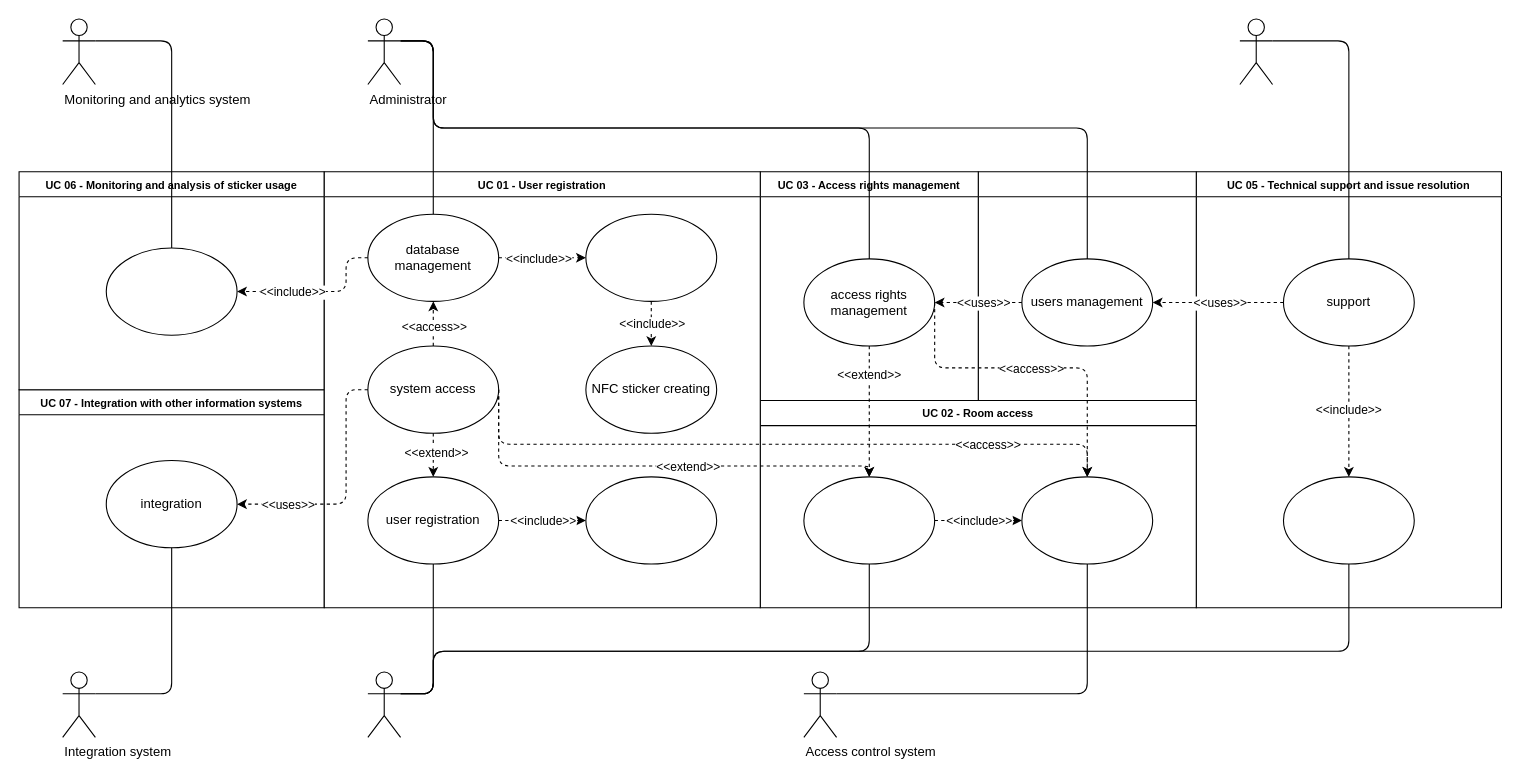
This 1521x779 diagram has some shape labels left out. The box of each missing label's shape, as (x1, y1, x2, y2) in pixels:
account creating: (585, 213, 717, 301)
NFC sticker verification: (1021, 476, 1153, 564)
providing personal information: (585, 476, 717, 564)
room access: (803, 476, 935, 564)
sticker usage: (105, 247, 237, 335)
Technical support: (1239, 18, 1273, 84)
UC 04 - Adding and removing users: (977, 171, 1196, 411)
User: (367, 671, 401, 737)
user's issue: (1282, 476, 1414, 564)
